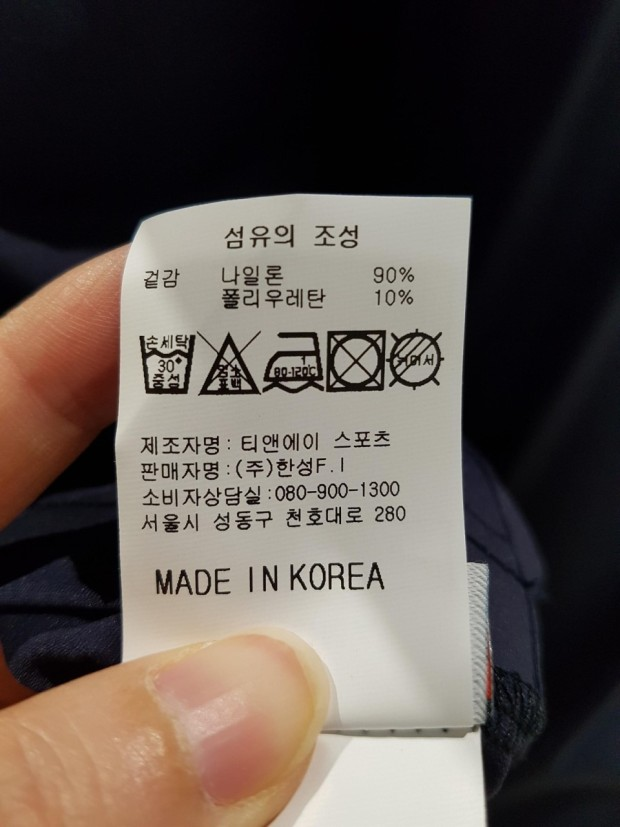KR_flat_dry_in_shade: (387, 327, 446, 392)
KR_hand_wash_30_neutral: (135, 329, 194, 398)
KR_iron_low_temp_with_cloth: (265, 333, 325, 395)
KR_no_chlorine_bleach: (198, 335, 260, 399)
KR_no_tumble_dry: (321, 327, 390, 395)
